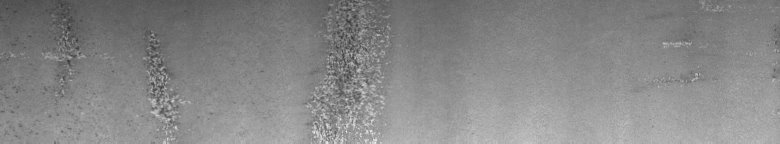hc: (7, 4, 191, 135)
